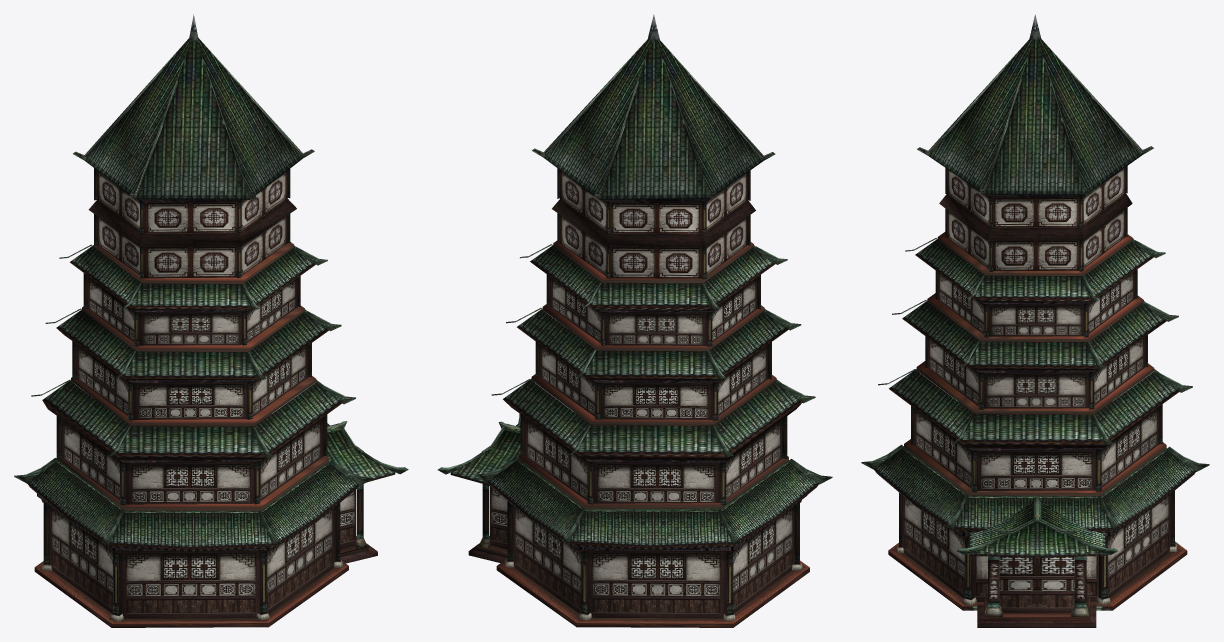
Rendered from c1-013-6tower_lod_01.glb.
3 renders of one model, left to right at view 1: azimuth 30°, elevation 25°; view 2: azimuth 150°, elevation 25°; view 3: azimuth 270°, elevation 25°, orthographic. The views are drawn at different scales.
Parts seen in each view (by area): view 1: c1-013-6tower-01, c1-013-6tower-02; view 2: c1-013-6tower-01, c1-013-6tower-02; view 3: c1-013-6tower-01, c1-013-6tower-02.
Part boxes in pixels (x1,y1,x2,y2): c1-013-6tower-01: (43, 14, 377, 618); c1-013-6tower-02: (14, 199, 408, 627); c1-013-6tower-01: (468, 14, 799, 618); c1-013-6tower-02: (437, 198, 832, 627); c1-013-6tower-01: (899, 14, 1174, 627); c1-013-6tower-02: (861, 194, 1209, 621).
Size of the model in its own units: 15.62 by 26.84 by 15.67.
Materials: 2 (2 with a texture image).
